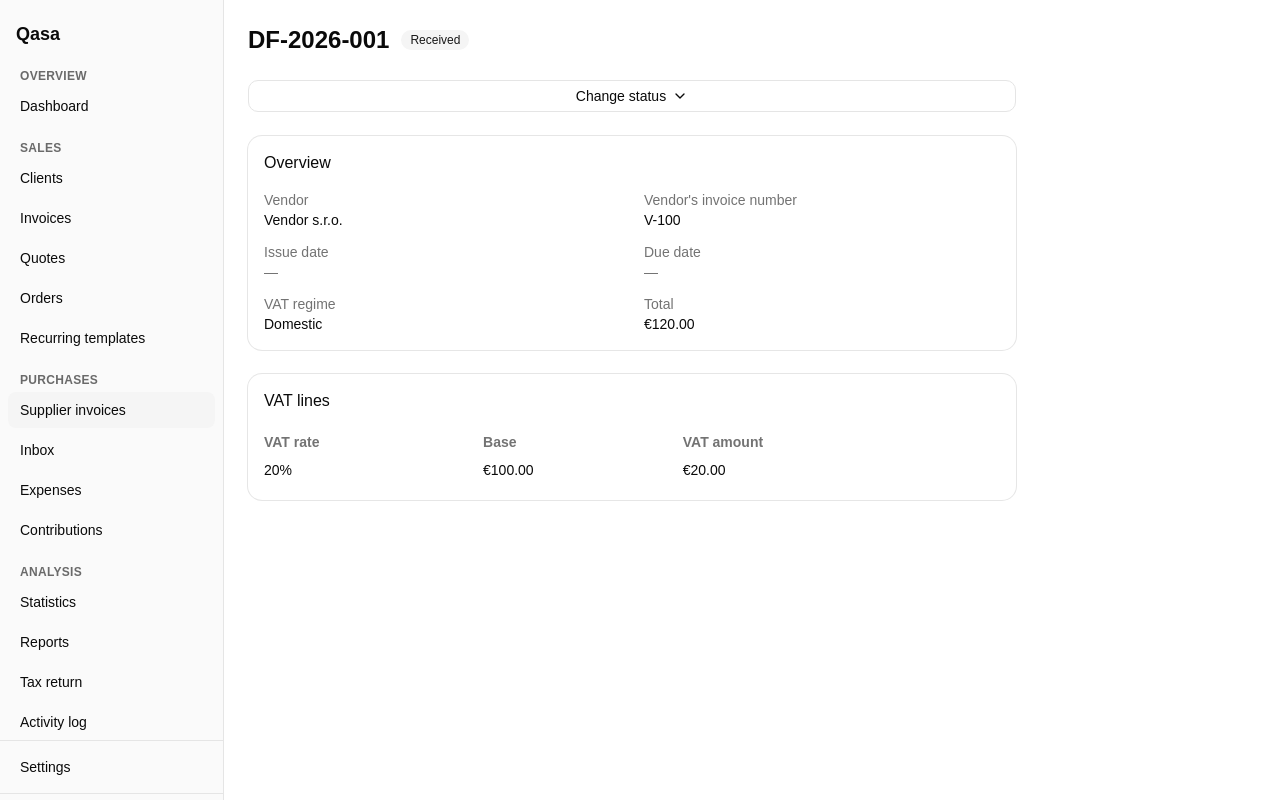
supplier invoice detail › opens a paid_at dialog before marking as paid
What coordinates should you click on to do the following:
click the button "Change status"
I would click on:
 (632, 96)
Its box is [248,80,1016,112].
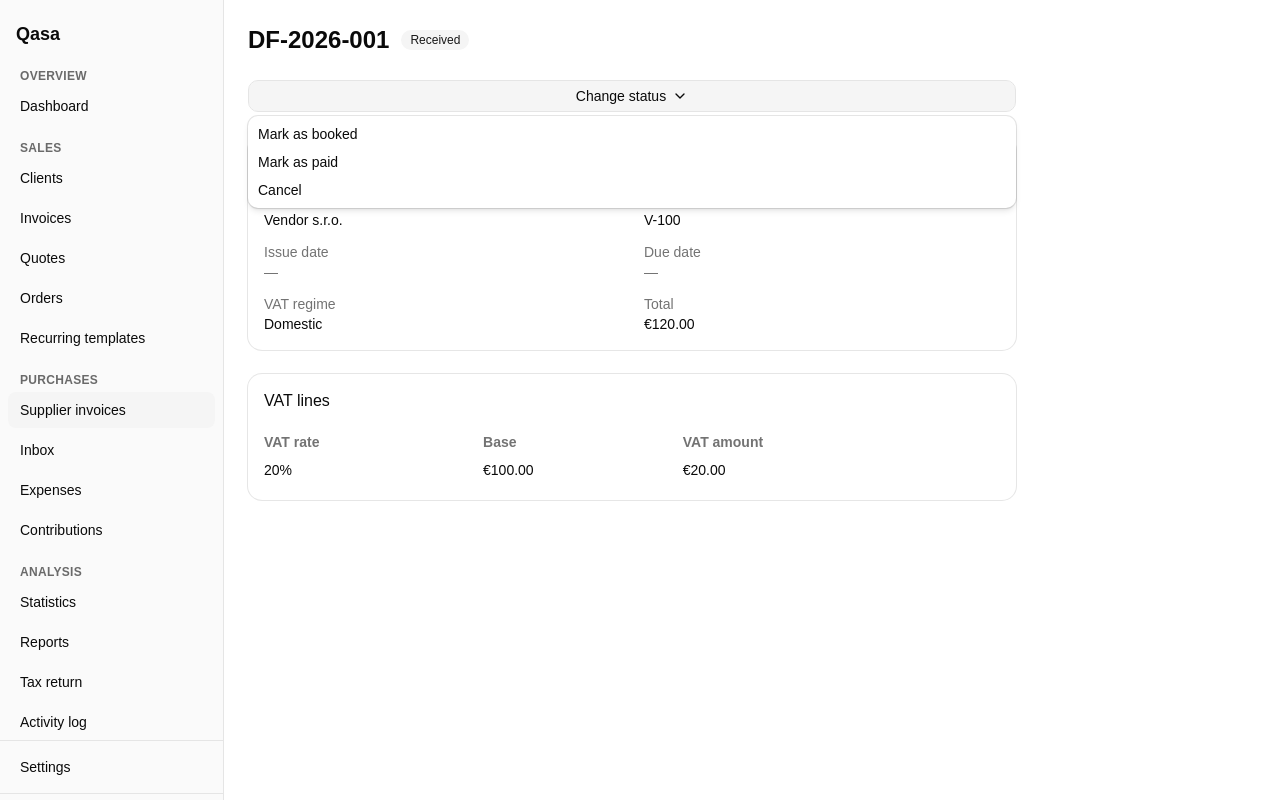
What coordinates should you click on to do the following:
click the menu item "Mark as paid"
I would click on:
 (298, 162)
Its box is [258,154,338,170].
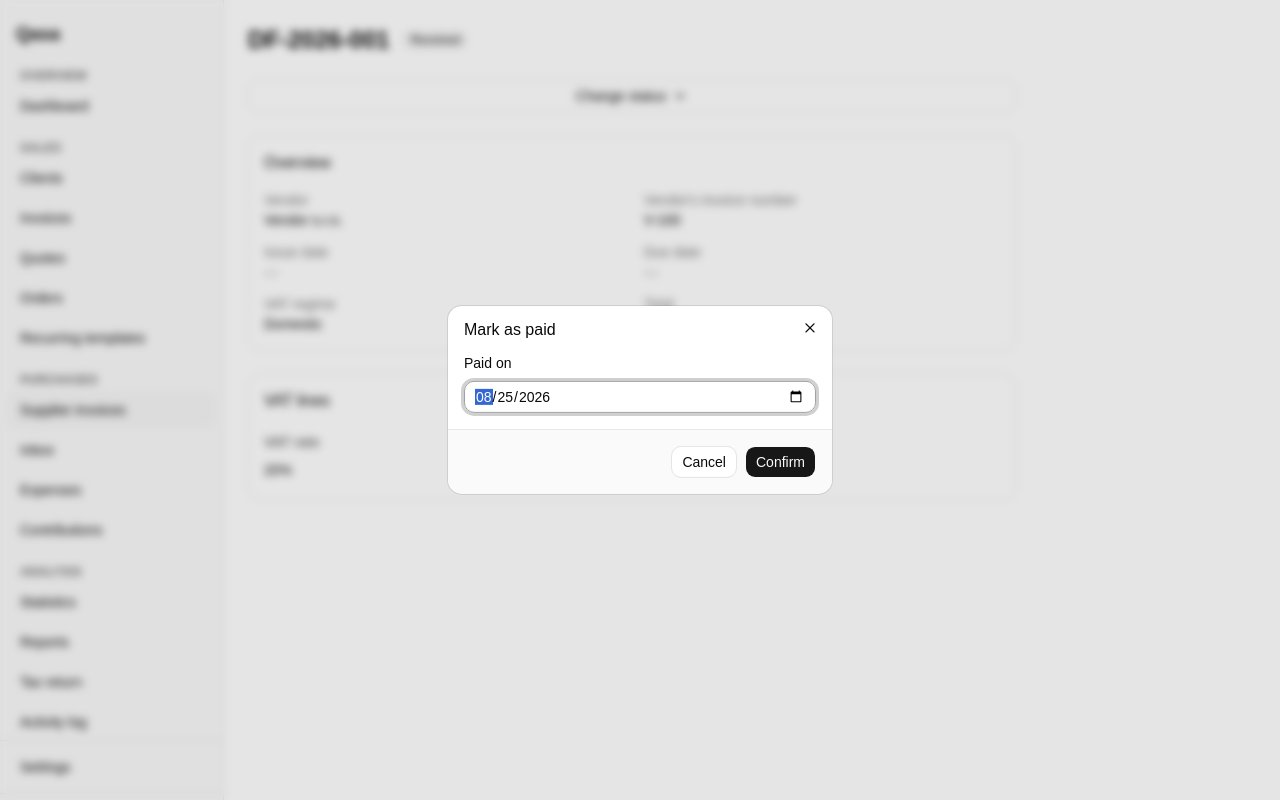
Expected: the dialog is shown, [448,306,832,494]
Expected: the date field labelled "Paid on" is shown, [464,381,816,413]
What coordinates should you click on to do the following:
click the button "Confirm"
I would click on:
 (780, 462)
Its box is [745,446,816,478].
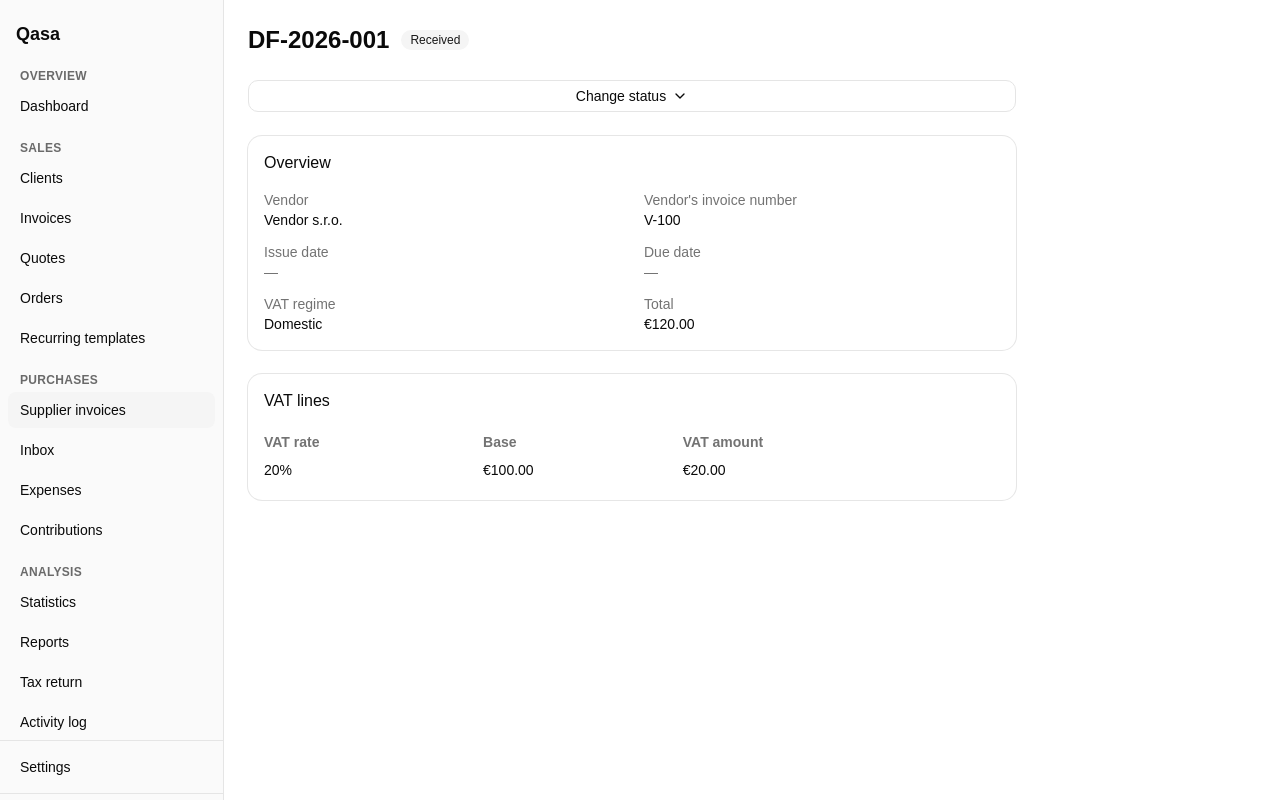
Expected: the dialog is gone
